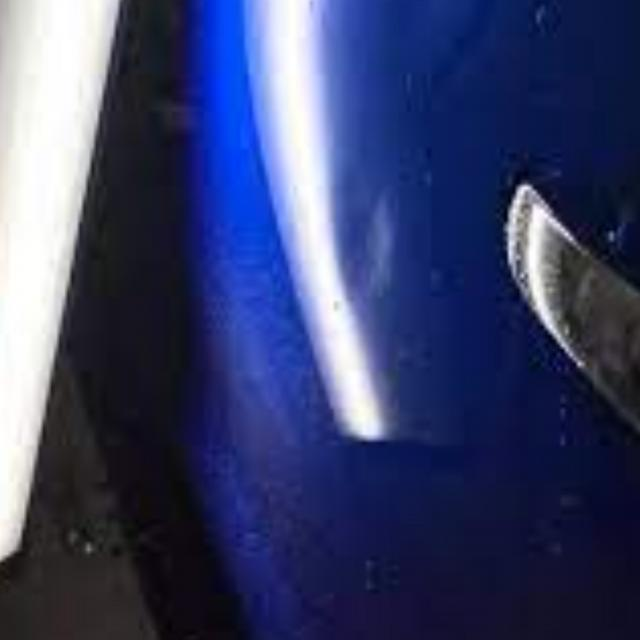dents: (336, 166, 420, 316)
